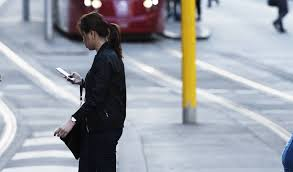pedestrian: (48, 5, 138, 172)
